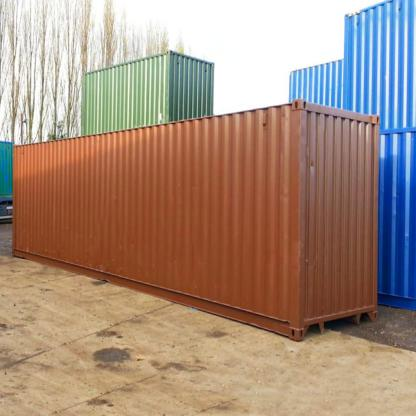Damage: (290, 107, 318, 182), (293, 238, 315, 290), (78, 256, 116, 276), (17, 216, 33, 253), (117, 232, 135, 248), (110, 186, 121, 204)
